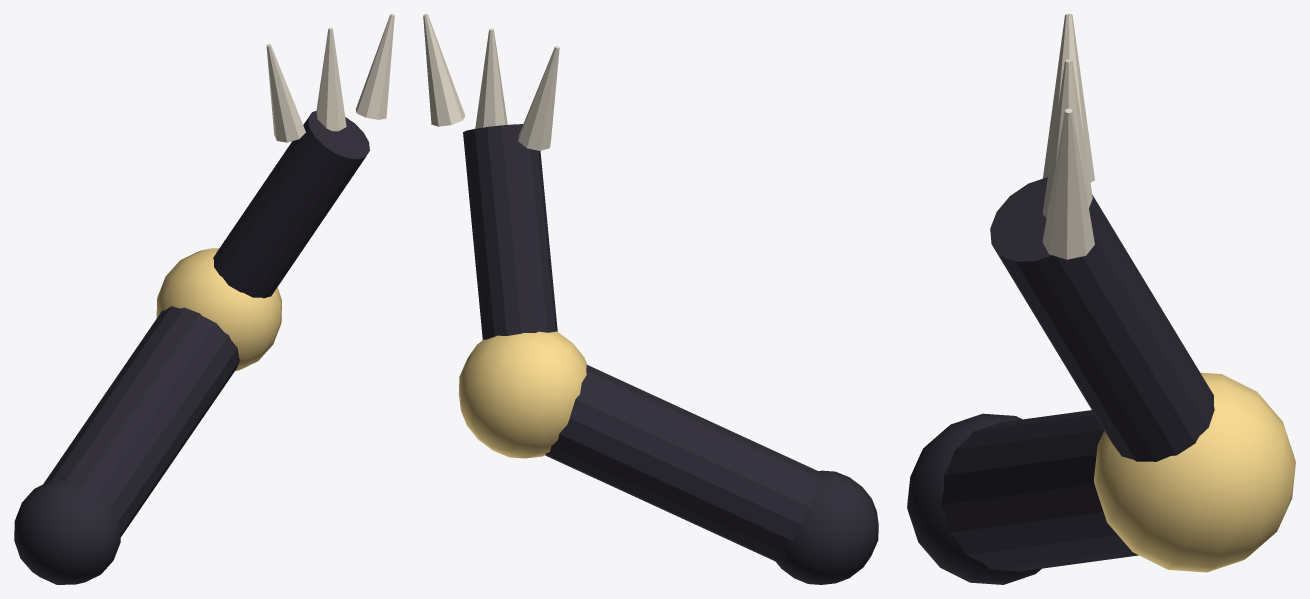
File: SM_Keeper_Wepwawet_Legm11.fbx
3 views of the same model, side by side, from view 1: azimuth 30°, elevation 25°; view 2: azimuth 150°, elevation 25°; view 3: azimuth 270°, elevation 25° (orthographic). The views are drawn at different scales.
Visible parts, largest first — view 1: SM_Keeper_Wepwawet_Legm11; view 2: SM_Keeper_Wepwawet_Legm11; view 3: SM_Keeper_Wepwawet_Legm11.
Boxes of the visible parts, x1=… form: SM_Keeper_Wepwawet_Legm11: x1=14, y1=14, x2=394, y2=584; SM_Keeper_Wepwawet_Legm11: x1=423, y1=14, x2=878, y2=584; SM_Keeper_Wepwawet_Legm11: x1=907, y1=14, x2=1295, y2=584.
Bounding box in the file's own units: 1.94 × 2.17 × 1.03.
